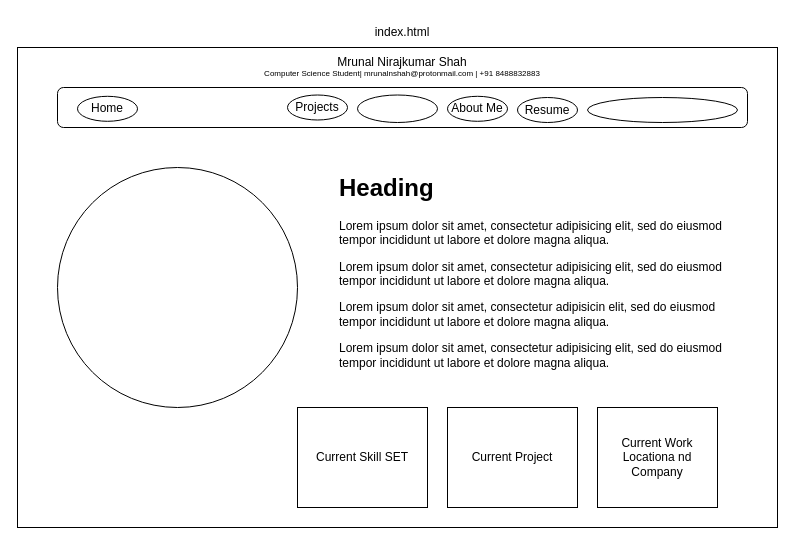
The diagram is 795 pixels wide and 545 high, and some of its shapes have lost their labels. The centre of each missing label's shape, as x and y in pixels:
Contact Me: pixel 662 109
My Profile Photo: pixel 177 287
Publications: pixel 397 108
